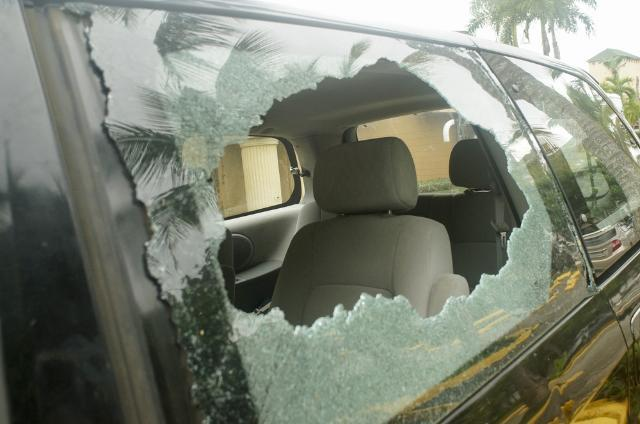glass shatter: (57, 1, 595, 424)
